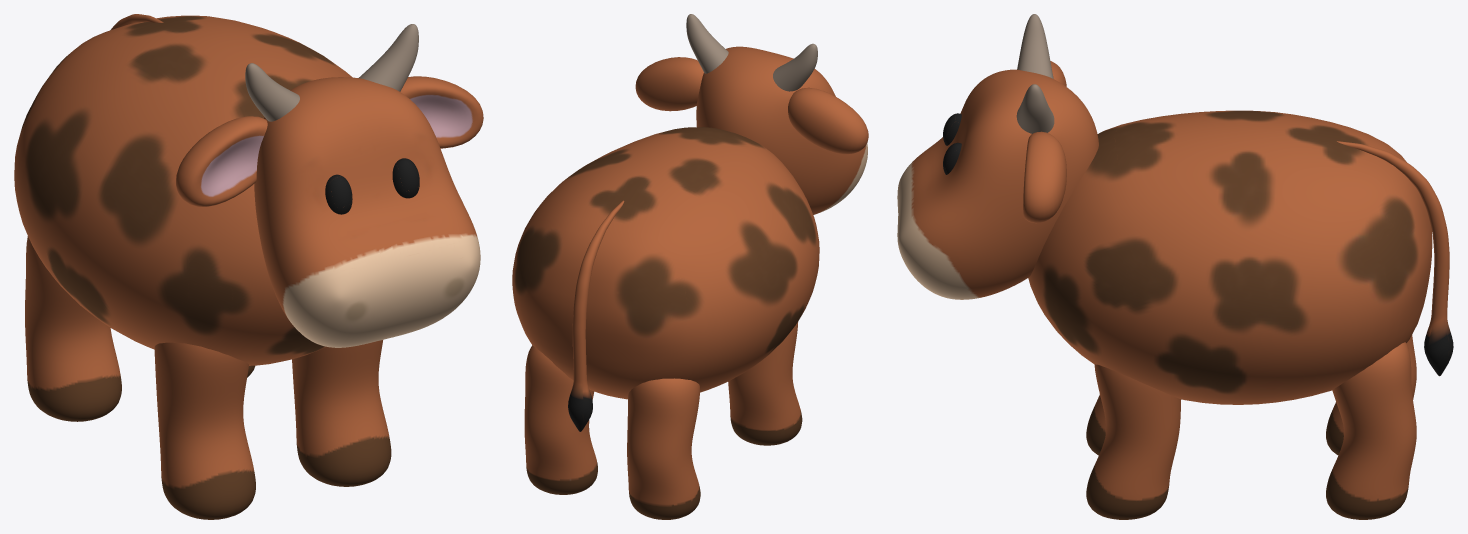
File: Vaca1Final.glb
The picture shows the model from 3 angles, left to right: view 1: azimuth 30°, elevation 25°; view 2: azimuth 150°, elevation 25°; view 3: azimuth 270°, elevation 25°; orthographic projection. The views are drawn at different scales.
Parts seen in each view (by area): view 1: Roundcube.002, Roundcube.001, Cube.001, Cube.002, Cube, Cube.004, Cube.003; view 2: Roundcube.002, Cube.002, Roundcube.001, Cube, Cube.001, Vert.001, Cube.004; view 3: Roundcube.002, Roundcube.001, Cube.002, Cube.001, Vert.001, Cube, Cube.004, Cube.003.
Boxes of the visible parts, <box> form: Roundcube.002: <box>14,15,352,365</box>; Roundcube.001: <box>254,77,480,347</box>; Cube.001: <box>154,340,391,519</box>; Cube.002: <box>25,236,255,421</box>; Cube: <box>176,76,483,206</box>; Cube.004: <box>245,24,418,121</box>; Cube.003: <box>325,158,419,214</box>; Roundcube.002: <box>512,127,819,399</box>; Cube.002: <box>524,345,700,519</box>; Roundcube.001: <box>696,46,867,214</box>; Cube: <box>635,57,868,154</box>; Cube.001: <box>728,321,802,445</box>; Vert.001: <box>568,200,624,431</box>; Cube.004: <box>686,14,817,91</box>; Roundcube.002: <box>1028,110,1432,404</box>; Roundcube.001: <box>897,69,1098,299</box>; Cube.002: <box>1326,334,1416,519</box>; Cube.001: <box>1086,364,1181,519</box>; Vert.001: <box>1337,141,1453,376</box>; Cube: <box>1023,61,1066,223</box>; Cube.004: <box>1016,14,1054,133</box>; Cube.003: <box>943,113,961,174</box>.
Bounding box in the file's own units: 0.6478 × 0.9196 × 1.07.
1 material, 1 textured.
